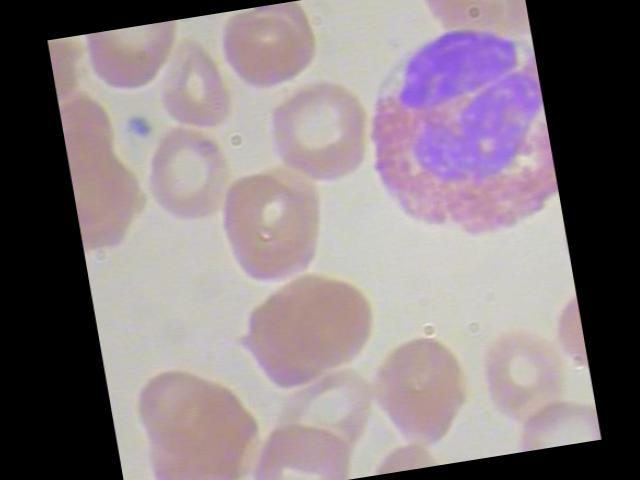Platelets: (116, 108, 153, 146)
Red Blood Cells: (203, 151, 333, 294), (355, 316, 480, 462), (254, 73, 379, 200), (249, 264, 383, 382), (466, 314, 575, 440), (126, 119, 242, 232), (210, 0, 326, 100), (145, 32, 237, 138), (77, 19, 193, 103), (239, 414, 356, 479), (506, 389, 600, 452)
White Blood Cells: (340, 0, 564, 263)
